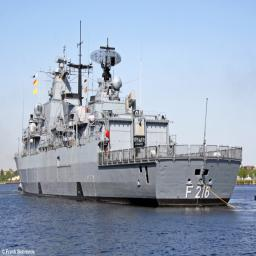Fragata: (13, 15, 246, 208)
